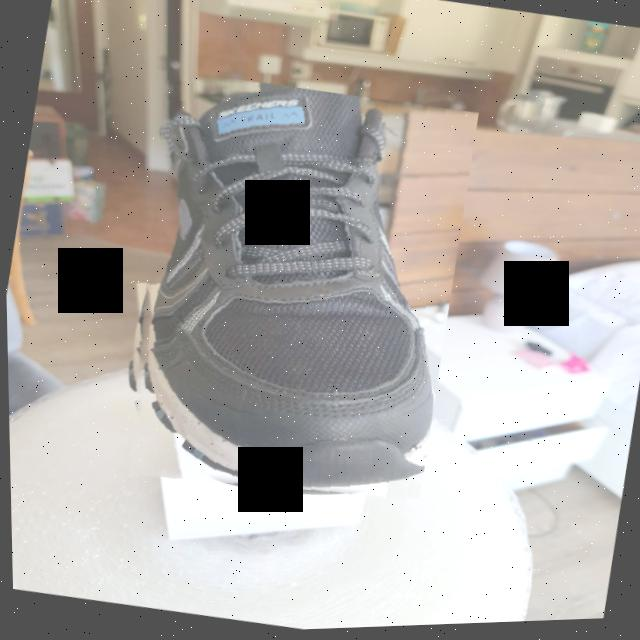shoe: (97, 62, 484, 526)
